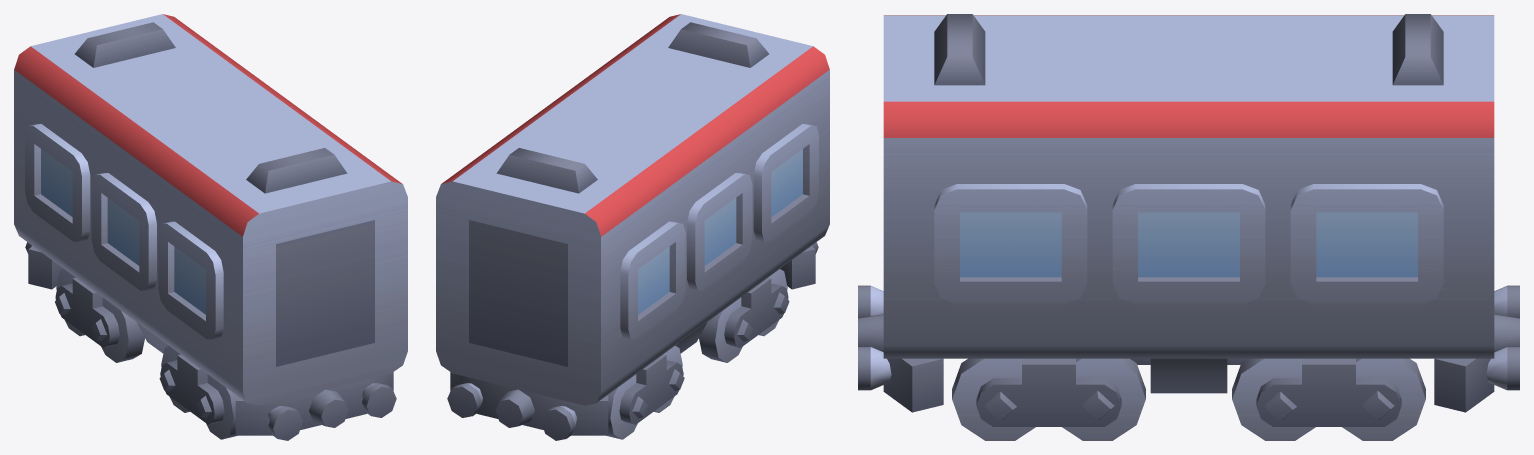
File: kenney-train-train-electric-subway-b.glb
The picture shows the model from 3 angles, left to right: view 1: azimuth 30°, elevation 25°; view 2: azimuth 150°, elevation 25°; view 3: azimuth 270°, elevation 25°; orthographic projection. The views are drawn at different scales.
Parts seen in each view (by area): view 1: train-electric-subway-b, wheels-back, wheels-front; view 2: train-electric-subway-b, wheels-front, wheels-back; view 3: train-electric-subway-b, wheels-front, wheels-back.
Boxes of the visible parts, bbox=[...] form: train-electric-subway-b: bbox=[14, 14, 407, 440]; wheels-back: bbox=[55, 269, 144, 362]; wheels-front: bbox=[159, 346, 237, 439]; train-electric-subway-b: bbox=[436, 14, 829, 440]; wheels-front: bbox=[699, 269, 789, 362]; wheels-back: bbox=[606, 346, 684, 439]; train-electric-subway-b: bbox=[858, 14, 1519, 412]; wheels-front: bbox=[952, 358, 1145, 440]; wheels-back: bbox=[1232, 358, 1425, 440].
Bounding box in the file's own units: 1.1 × 1.57 × 2.6.
1 material, 1 textured.
